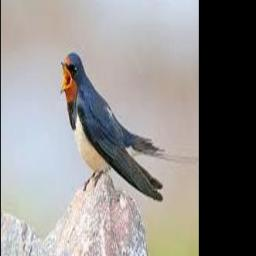Swallow: (60, 53, 165, 201)
